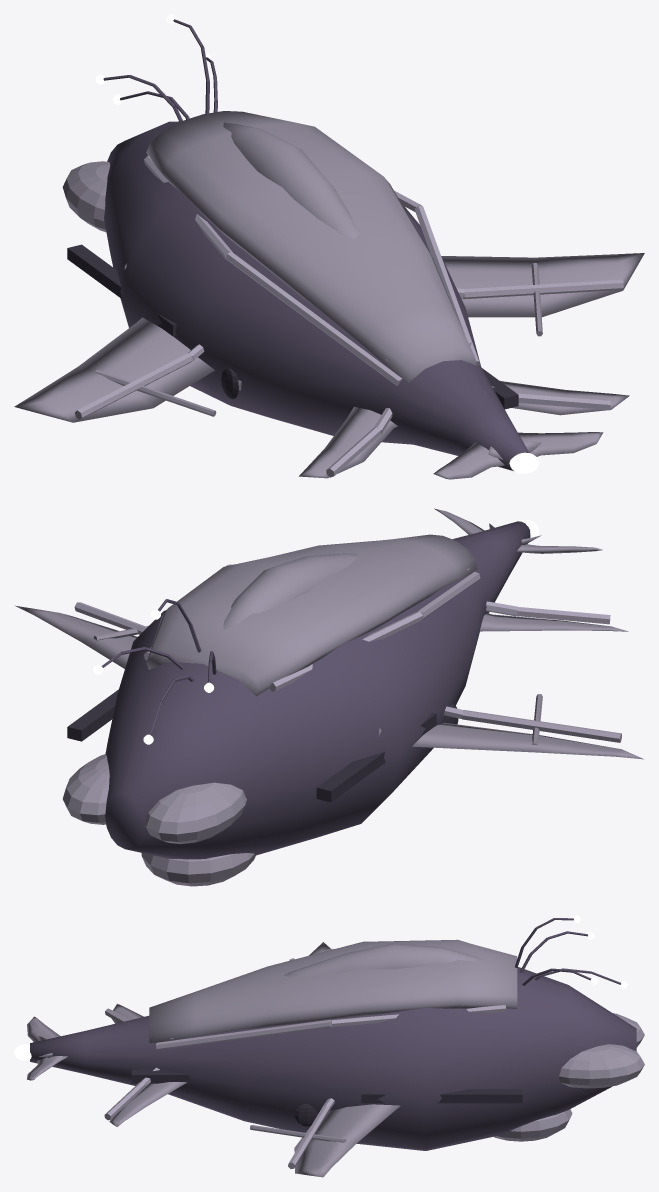
The picture shows the model from 3 angles, top to bottom: view 1: azimuth 30°, elevation 25°; view 2: azimuth 150°, elevation 25°; view 3: azimuth 270°, elevation 25°; orthographic projection. The views are drawn at different scales.
Visible parts, largest first — view 1: RIMWARD_HULL; view 2: RIMWARD_HULL; view 3: RIMWARD_HULL.
Boxes of the visible parts, x1,y1,x2,y2 form: RIMWARD_HULL: (14,19,644,479); RIMWARD_HULL: (15,508,643,886); RIMWARD_HULL: (27,918,644,1177).
Size of the model in its own units: 7.04 by 3.14 by 7.97.
